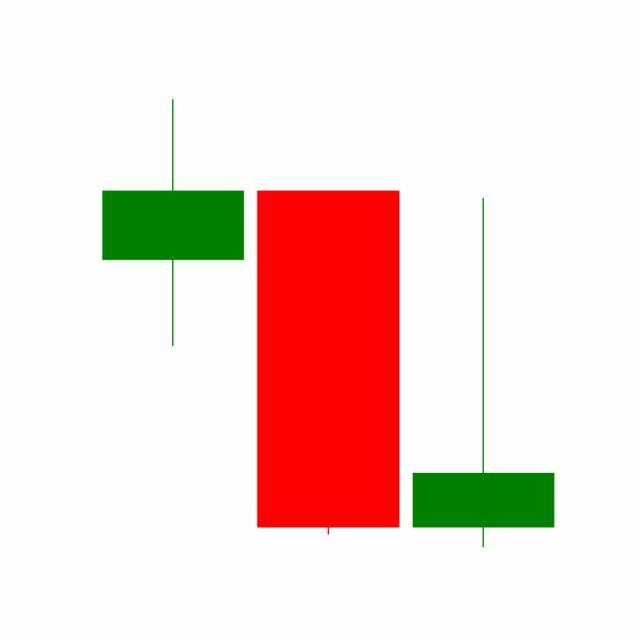Marubozu: (250, 187, 407, 539)
